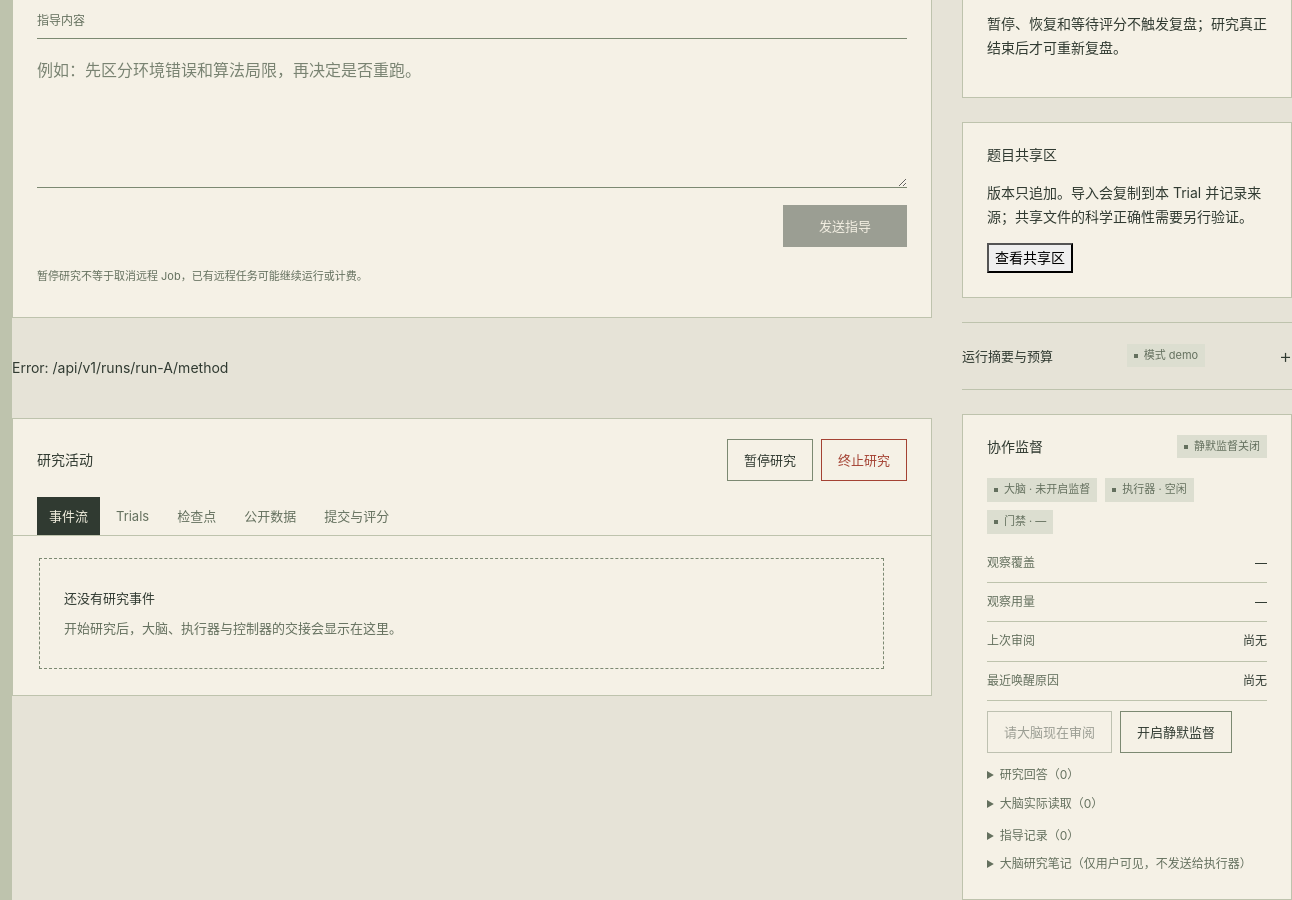
Test case: research selection and lifecycle safety › shows formally registered executor scores with their source and package
The image size is (1292, 900).
(page scrolled)
Click the tab "提交与评分": (357, 516) top-left (312, 497), bottom-right (401, 535)
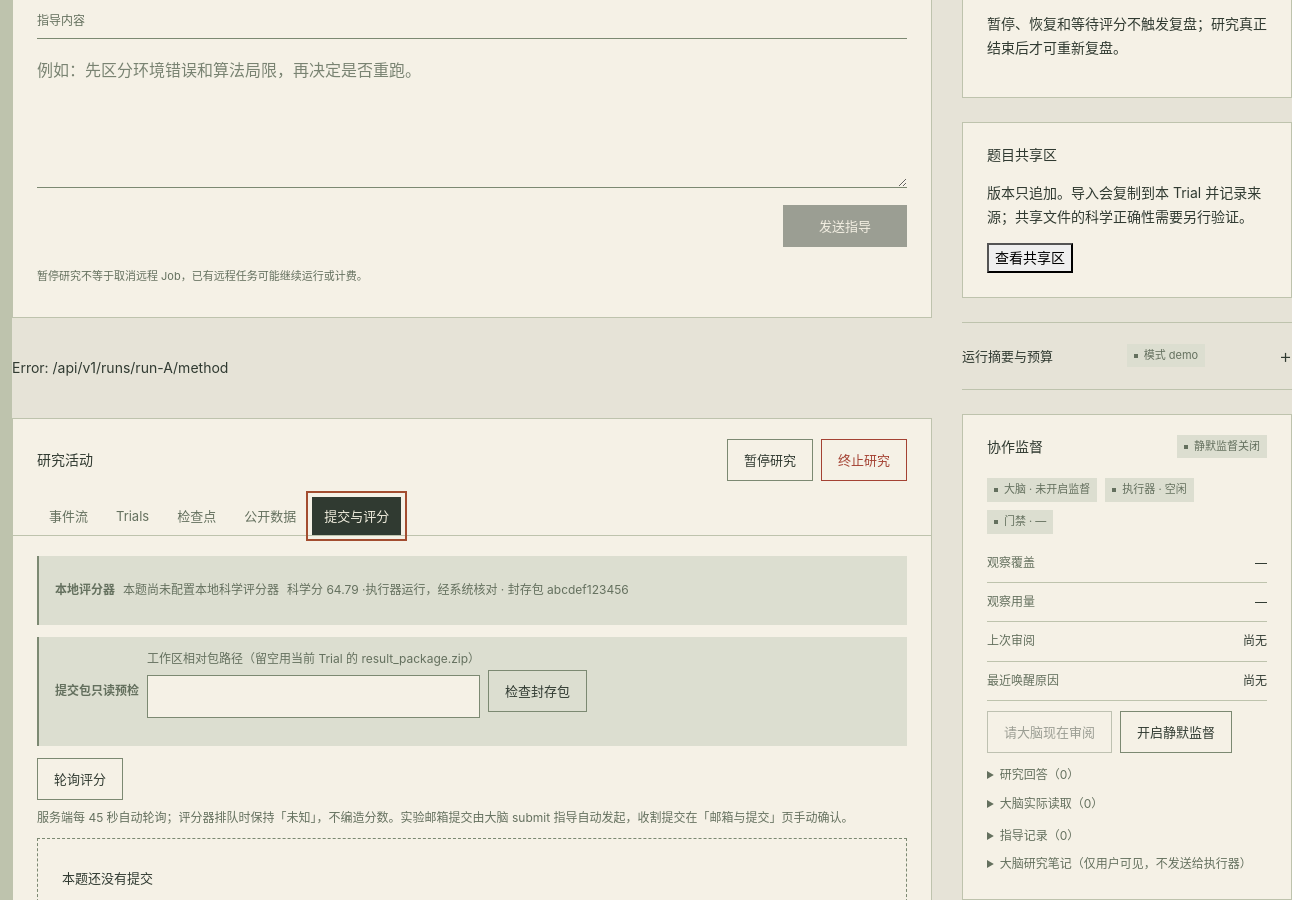
Check: the text "科学分 64.79 ·执行器运行，经系统核对 · 封存包 abcdef123456" is shown, box top-left (287, 580), bottom-right (629, 601)
